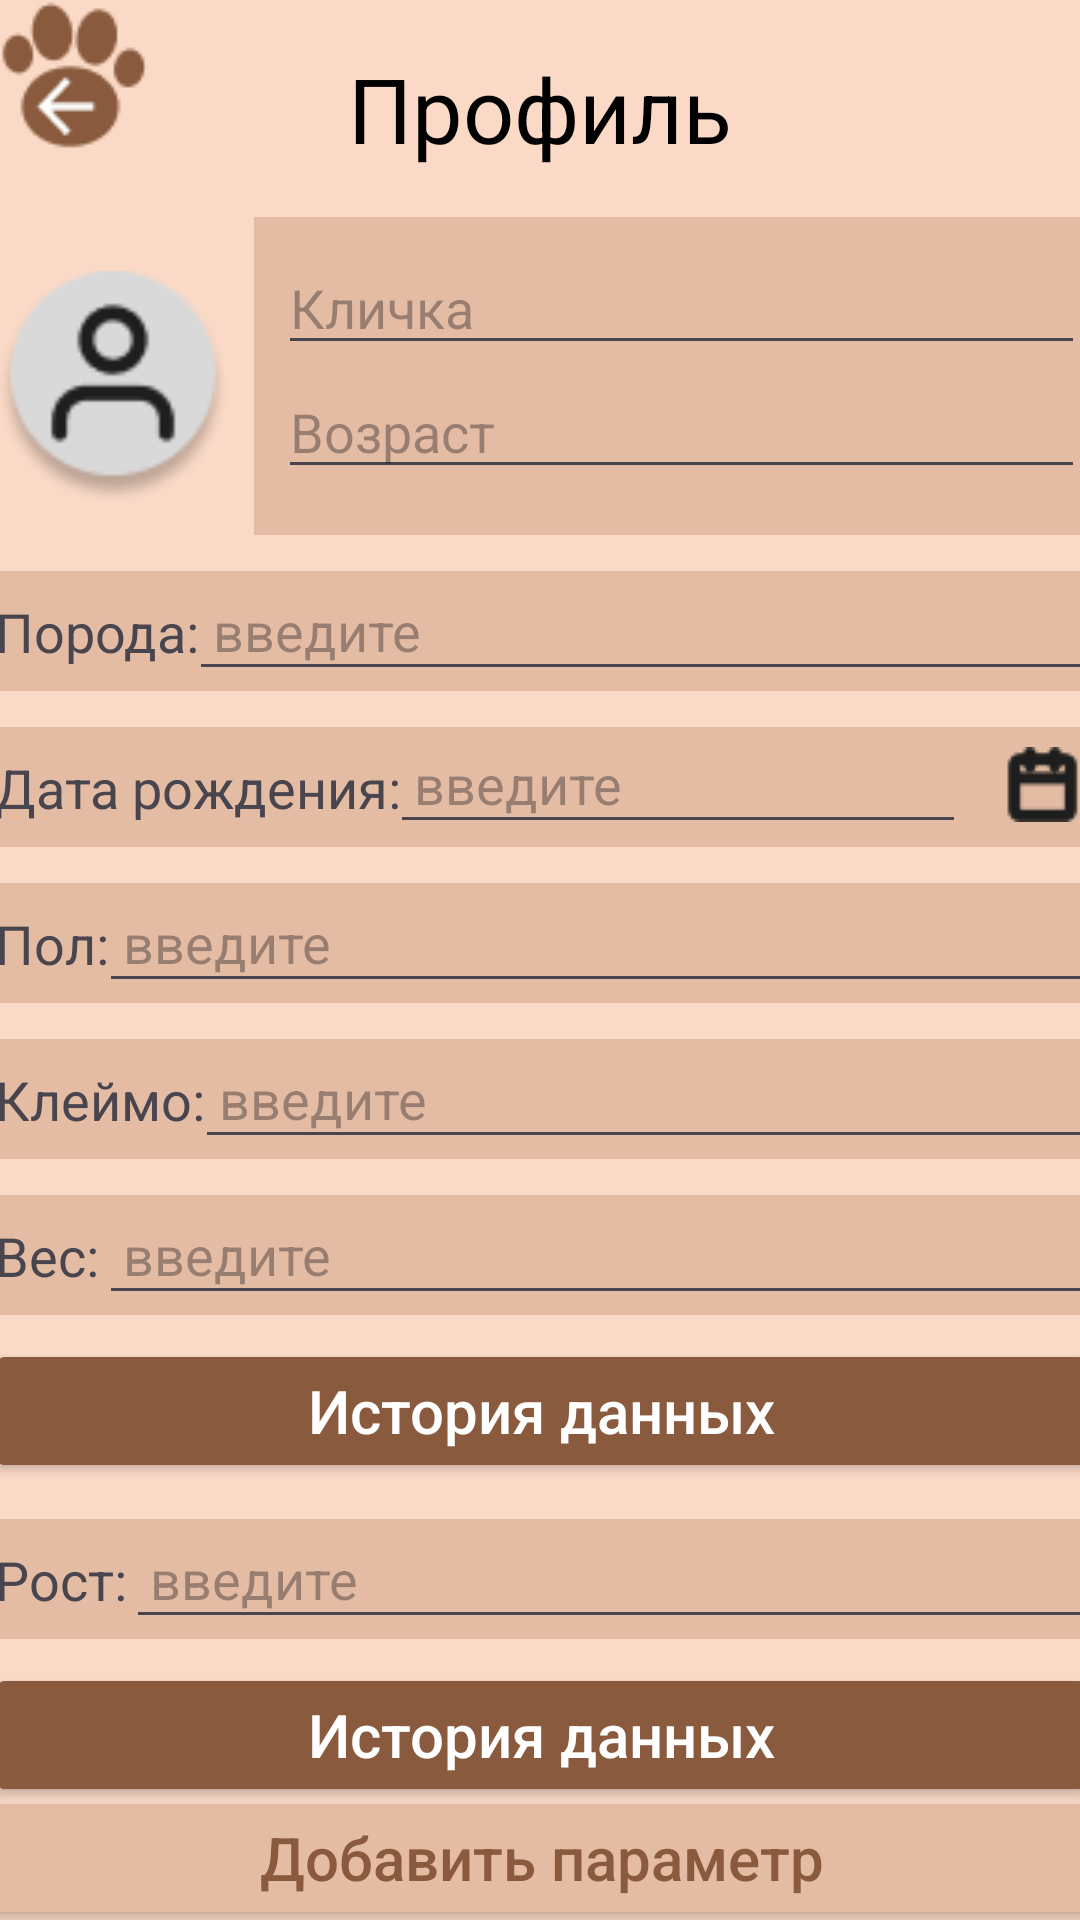

Icons on this 1080px×1920px Android screen, each with the point to tap as [x,y]:
back: [73,75]
calendar: [1042,784]
